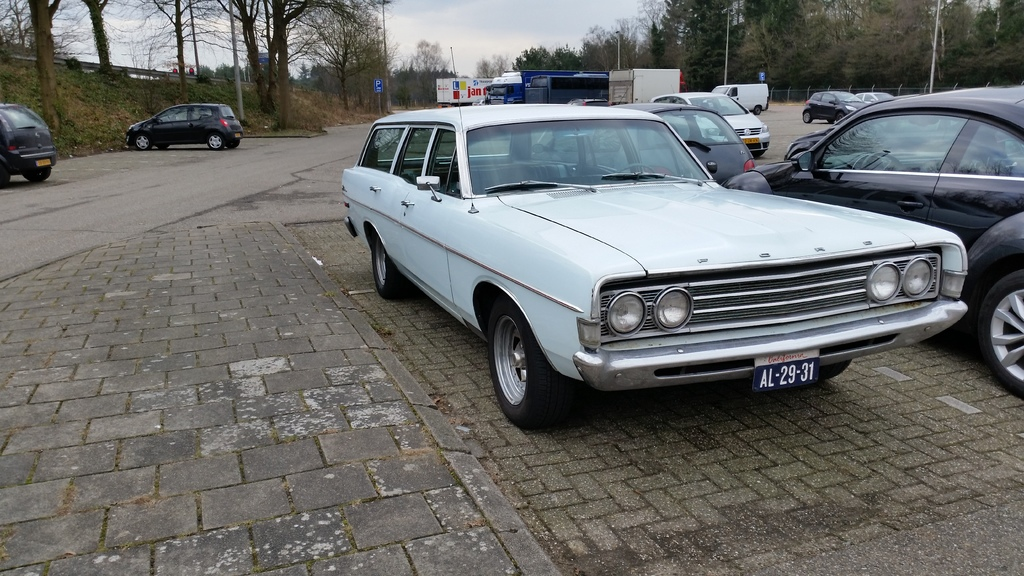mobil: (341, 113, 982, 427)
